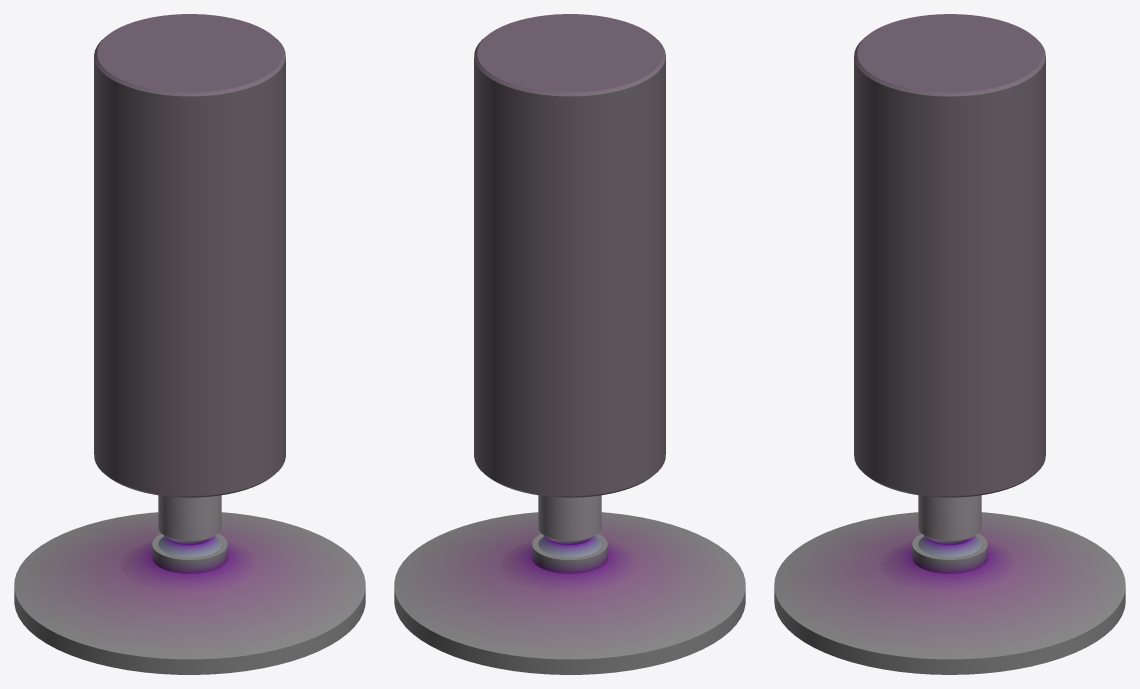
3 views of the same model, side by side, from view 1: azimuth 30°, elevation 25°; view 2: azimuth 150°, elevation 25°; view 3: azimuth 270°, elevation 25° (orthographic).
Visible parts, largest first — view 1: body, foot, neck; view 2: body, foot, neck; view 3: body, foot, neck.
Part boxes in pixels (bbox=[...]): body: bbox=[94, 14, 285, 497]; foot: bbox=[14, 512, 365, 674]; neck: bbox=[158, 495, 221, 557]; body: bbox=[474, 14, 665, 497]; foot: bbox=[394, 512, 745, 674]; neck: bbox=[538, 495, 601, 557]; body: bbox=[854, 14, 1045, 497]; foot: bbox=[774, 512, 1125, 674]; neck: bbox=[918, 495, 981, 557].
Bounding box in the file's own units: 0.1164 × 0.2 × 0.1164.
